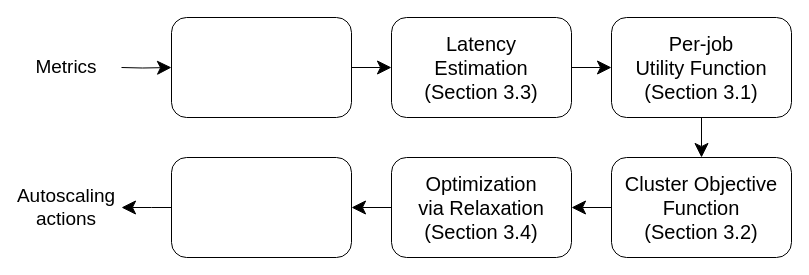
The diagram is 809 pixels wide and 275 high, and some of its shapes have lost their labels. The centre of each missing label's shape, as x and y in pixels:
"Multi-tenant Autoscaler (Section 4)" belongs at (x=261, y=207).
"Time-series Prediction (Section 3.5)" belongs at (x=261, y=67).
